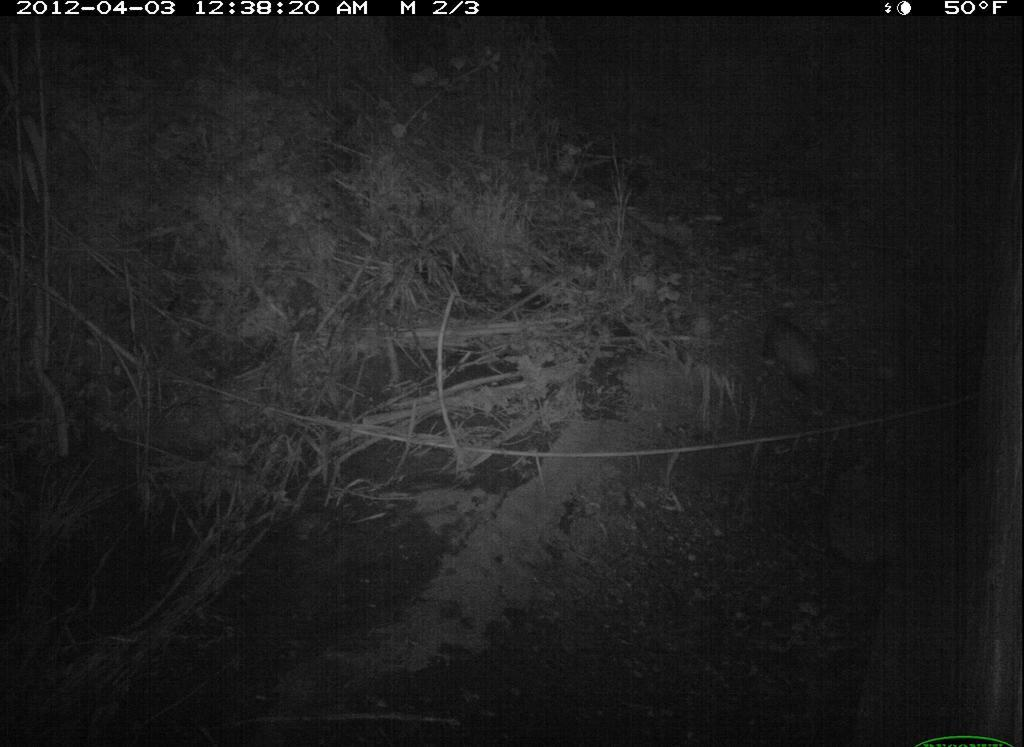opossum: (747, 300, 857, 423)
